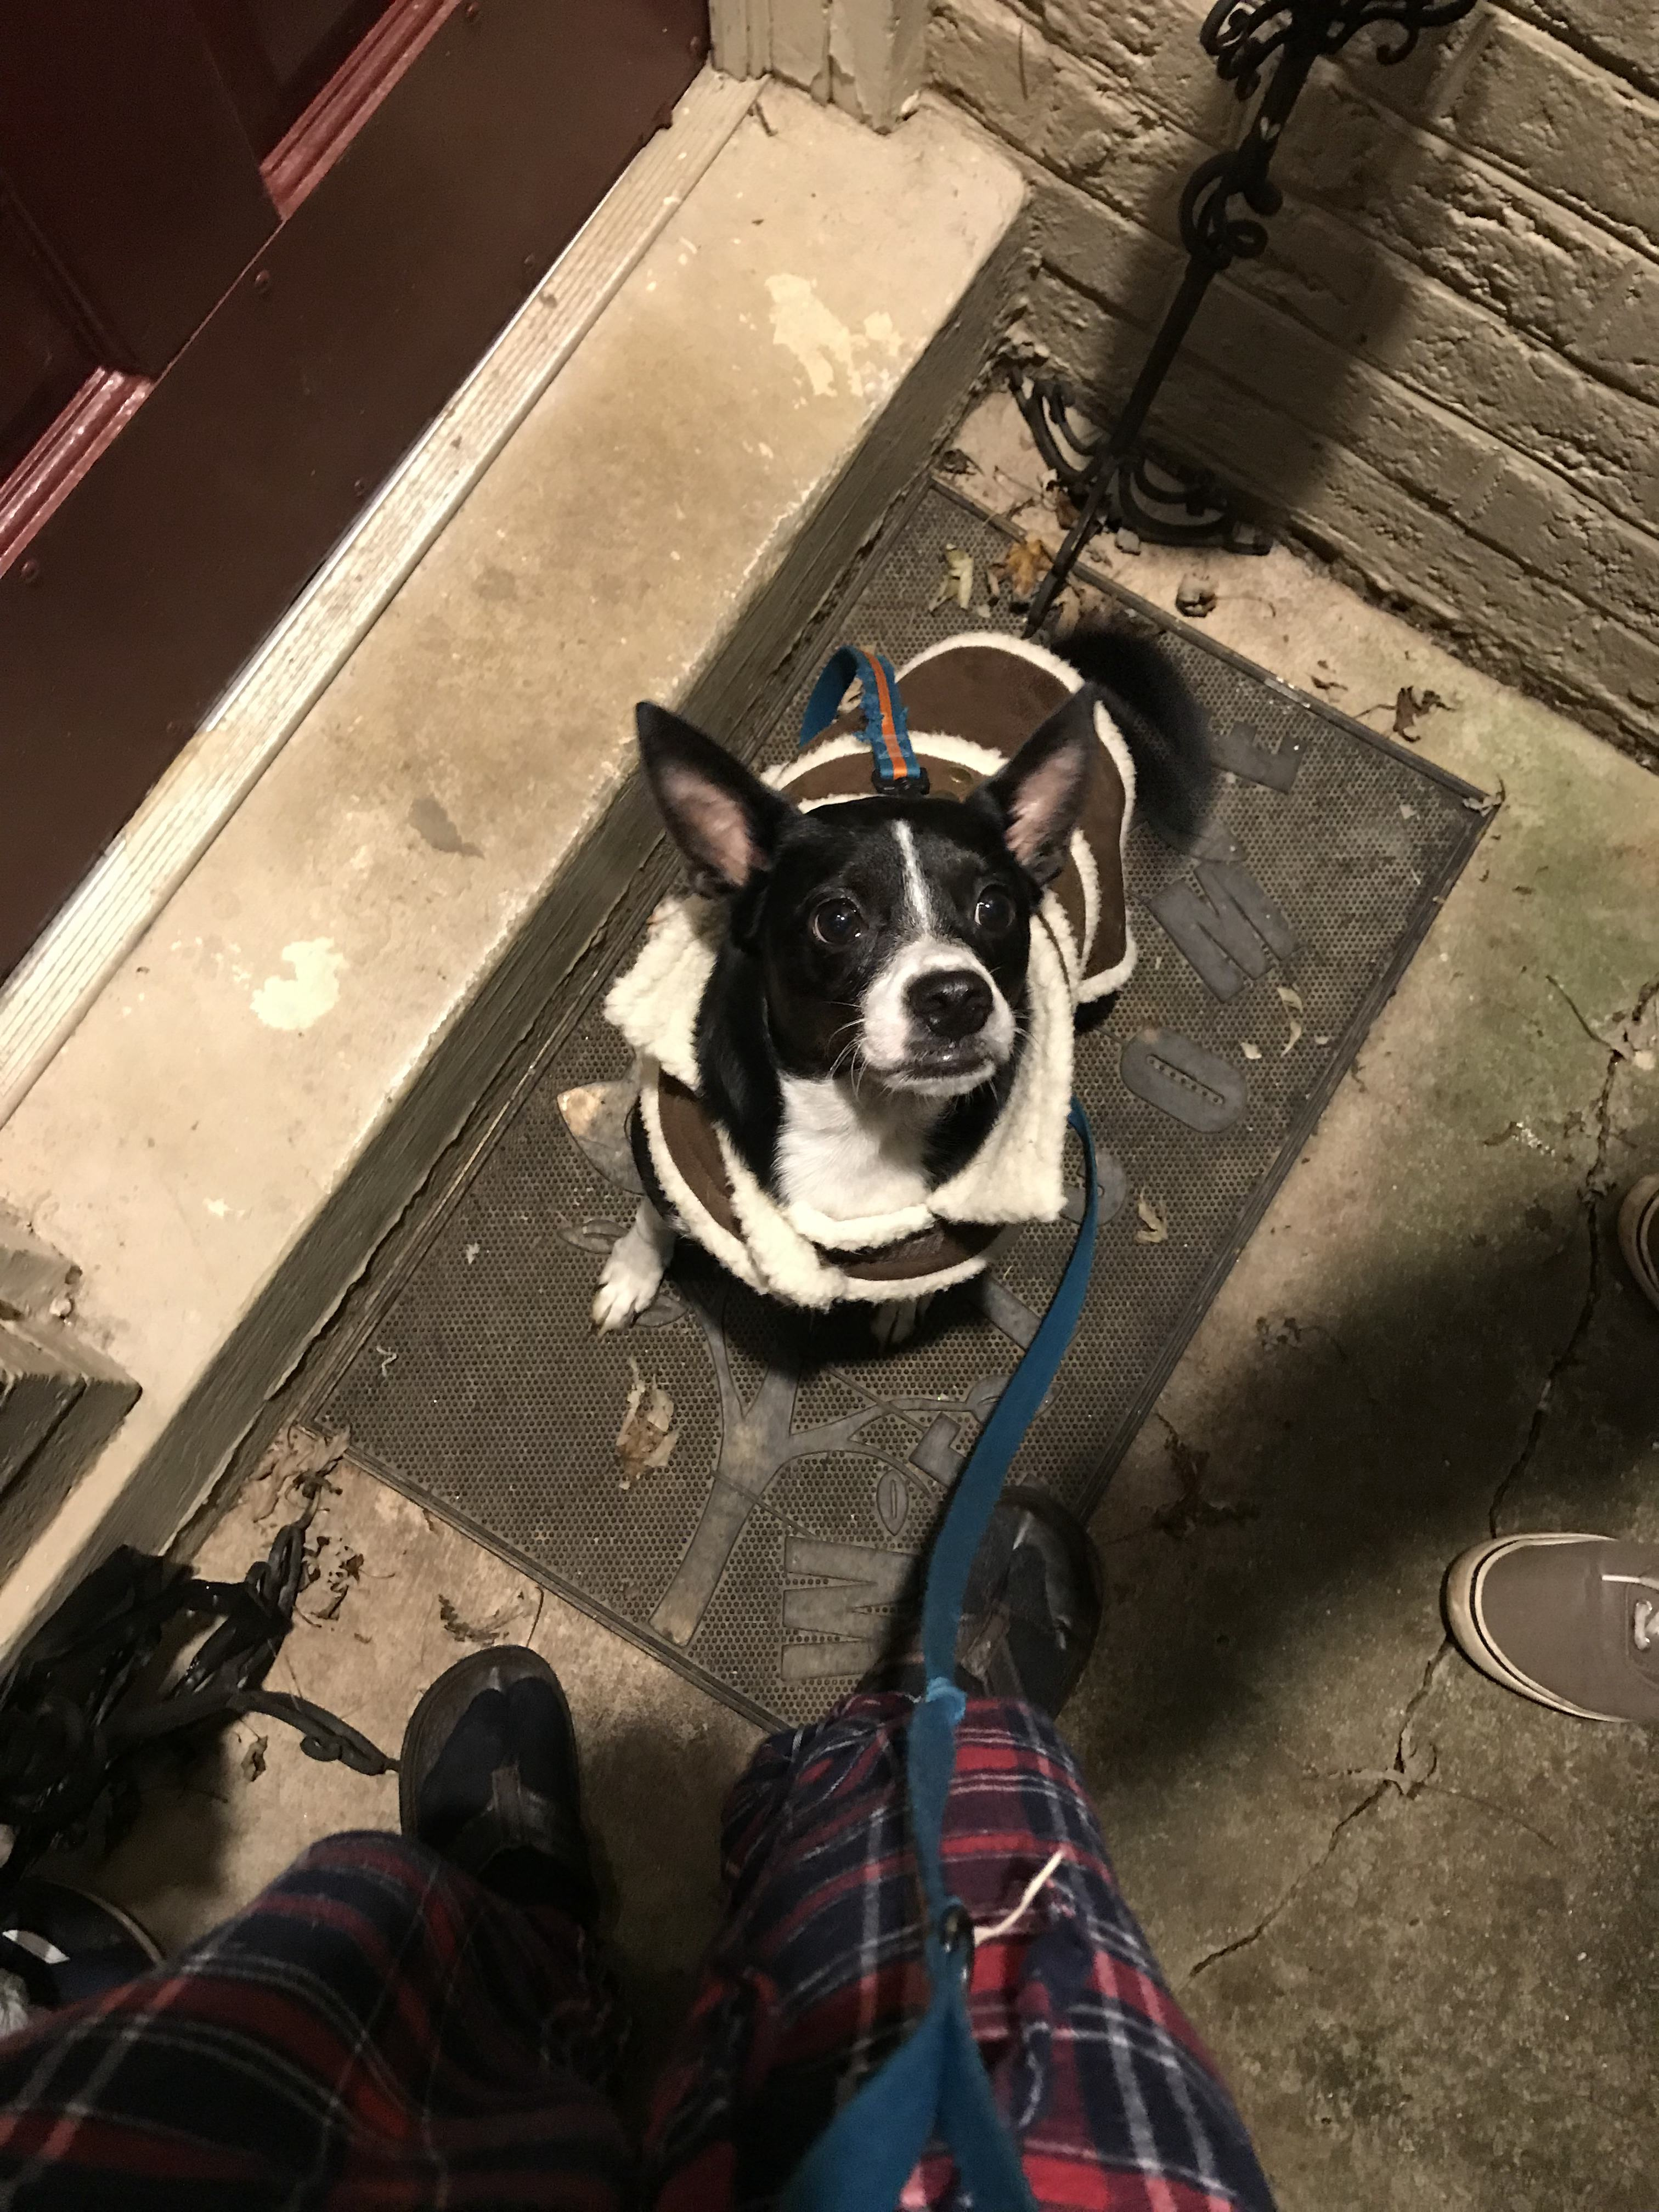Harley: (568, 571, 1223, 1411)
